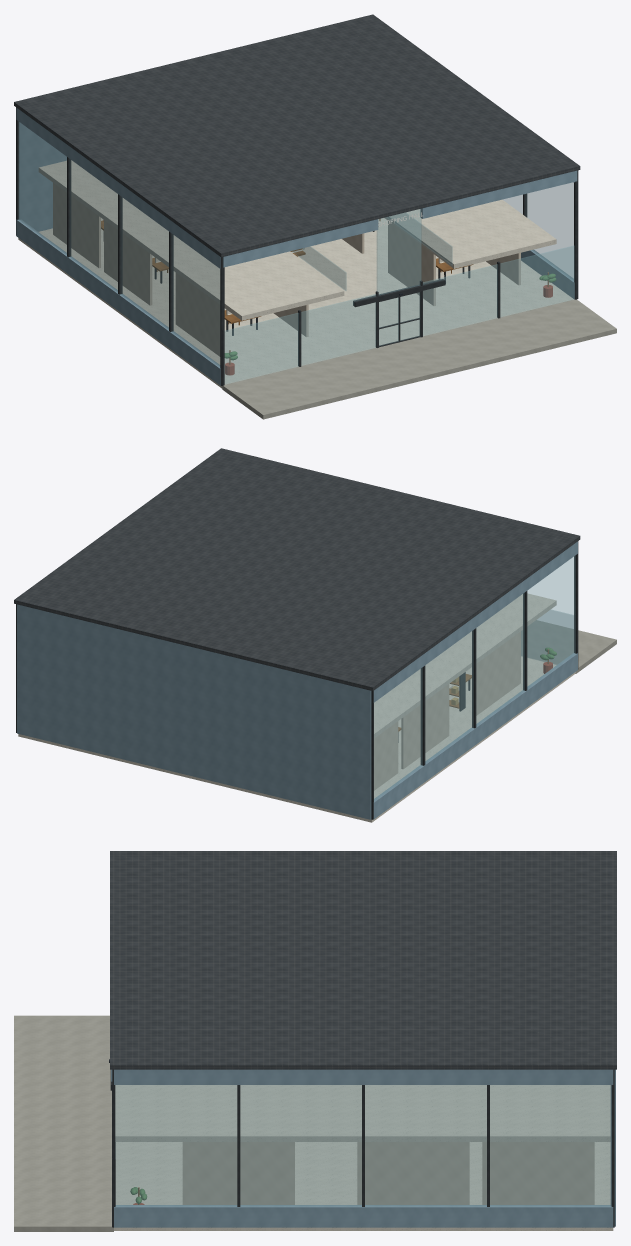
Rendered from 15_Shopping_Mall_LOD1.glb.
3 views of the same model, one above another, from view 1: azimuth 30°, elevation 25°; view 2: azimuth 150°, elevation 25°; view 3: azimuth 270°, elevation 25° (orthographic). The views are drawn at different scales.
Visible parts, largest first — view 1: Roof, Floor, Side glazing, Approach, Mall upper gallery, Front glazing, Front glazing.001, Mall upper gallery.001, Side base wall, Entrance transom, Rear wall, Side glazing.001 (+16 smaller); view 2: Roof, Rear wall, Side glazing, Mall upper gallery, Side base wall, Floor, Side upper wall, Approach, Shop side, Shop side.002, Front glazing, Shop side.004 (+1 smaller); view 3: Roof, Side glazing.001, Mall upper gallery.001, Approach, Floor, Side base wall.001, Side upper wall.001, Shop side.007, Shop side.009, Shop side.011, Side mullion.005, Side mullion.009 (+1 smaller).
Part boxes in pixels (x1,y1,x2,y2): Roof: (14, 14, 580, 257); Floor: (18, 218, 573, 388); Side glazing: (18, 122, 219, 366); Approach: (222, 299, 616, 419); Mall upper gallery: (38, 160, 344, 320); Front glazing: (225, 294, 376, 384); Front glazing.001: (423, 245, 574, 335); Mall upper gallery.001: (385, 199, 556, 268); Side base wall: (16, 219, 220, 385); Entrance transom: (377, 209, 421, 295); Rear wall: (18, 122, 66, 231); Side glazing.001: (503, 182, 573, 279); Roof: (14, 448, 580, 690); Rear wall: (17, 604, 371, 819); Side glazing: (374, 555, 575, 800); Mall upper gallery: (374, 593, 556, 738); Side base wall: (373, 653, 577, 819); Floor: (18, 656, 575, 822); Side upper wall: (373, 541, 577, 702); Approach: (521, 620, 616, 673); Shop side: (476, 631, 520, 715); Shop side.002: (401, 684, 449, 768); Front glazing: (521, 610, 573, 664); Shop side.004: (374, 721, 398, 790); Roof: (110, 851, 616, 1069); Side glazing.001: (115, 1085, 611, 1206); Mall upper gallery.001: (115, 1085, 610, 1141); Approach: (14, 1015, 113, 1231); Floor: (114, 1142, 613, 1230); Side base wall.001: (114, 1205, 613, 1227); Side upper wall.001: (114, 1069, 613, 1084); Shop side.007: (182, 1142, 294, 1204); Shop side.009: (357, 1142, 469, 1204); Shop side.011: (482, 1142, 594, 1204); Side mullion.005: (112, 1069, 115, 1227); Side mullion.009: (611, 1069, 614, 1227).
Bounding box in the file's own units: 20.3 × 7.44 × 24.15.
17 materials, 11 textured.
